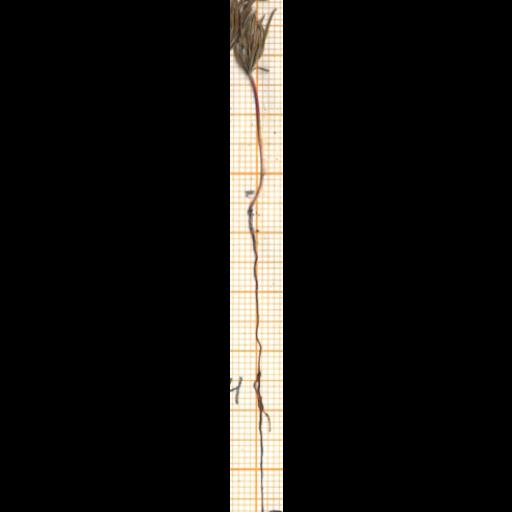flowerPinus: (231, 0, 274, 76)
rootPinus: (247, 187, 270, 511)
stemPinus: (249, 75, 262, 195)
